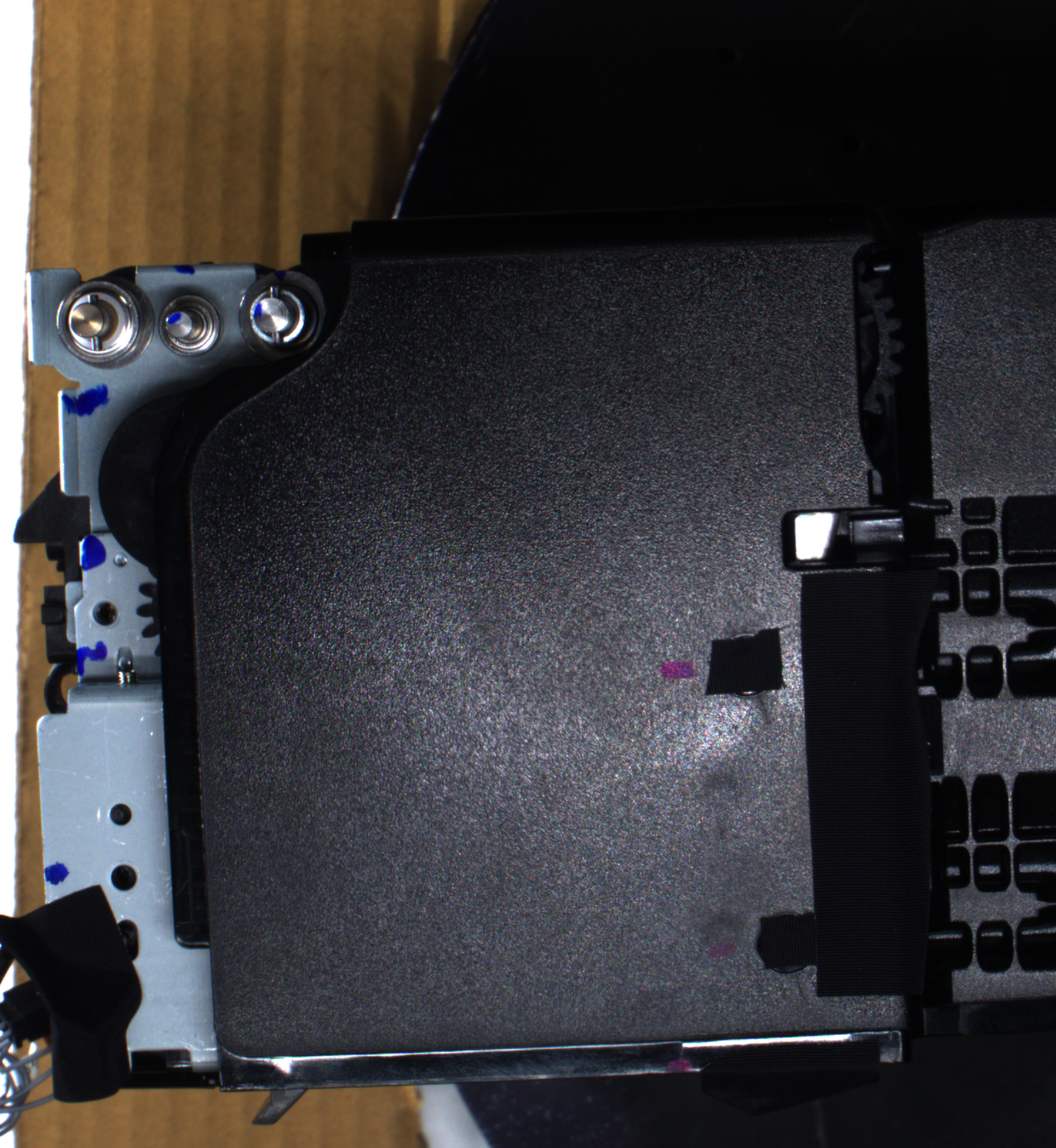gear1_absence: (53, 275, 157, 370)
gear2_absence: (151, 289, 226, 360)
gear3_absence: (234, 271, 324, 358)
side_screw_absence: (104, 857, 144, 898), (87, 596, 123, 631)
